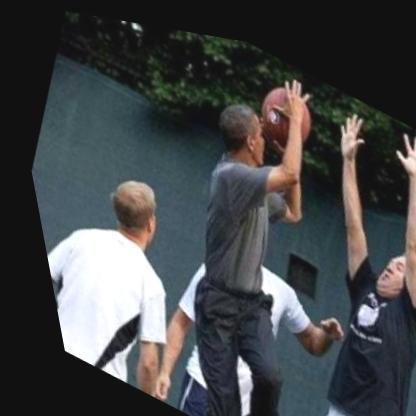basketball: (243, 63, 326, 148)
